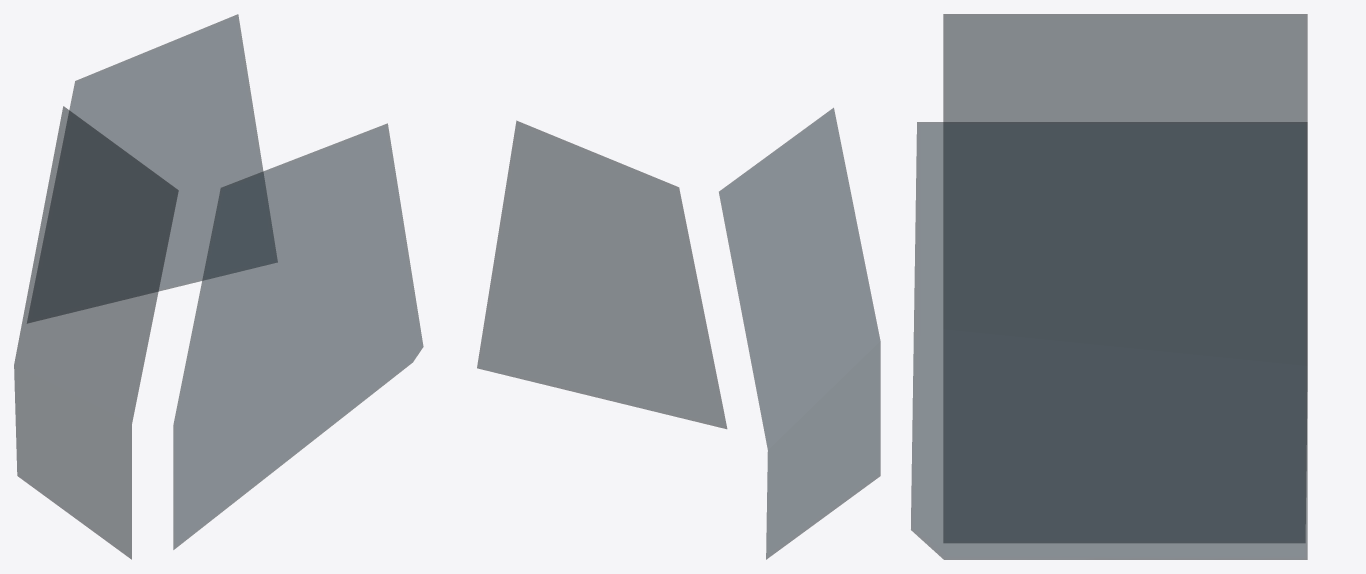
The model's file is windows.obj.
3 renders of one model, left to right at view 1: azimuth 30°, elevation 25°; view 2: azimuth 150°, elevation 25°; view 3: azimuth 270°, elevation 25°, orthographic. The views are drawn at different scales.
Visible parts, largest first — view 1: główna_cz.001; view 2: główna_cz.001; view 3: główna_cz.001.
Boxes of the visible parts, <box> form: główna_cz.001: <box>14,14,423,559</box>; główna_cz.001: <box>477,108,880,559</box>; główna_cz.001: <box>911,14,1307,559</box>.
Bounding box in the file's own units: 4.65 × 5.79 × 3.74.
1 material, 1 textured.
